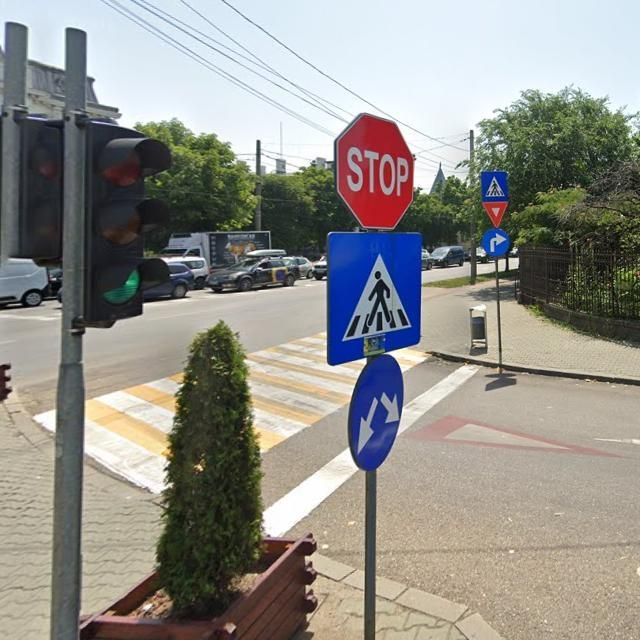info_crosswalk: (327, 231, 422, 362), (479, 172, 507, 200)
prio_give_way: (409, 411, 633, 459), (482, 203, 511, 228)
prio_stop: (333, 114, 416, 231)
